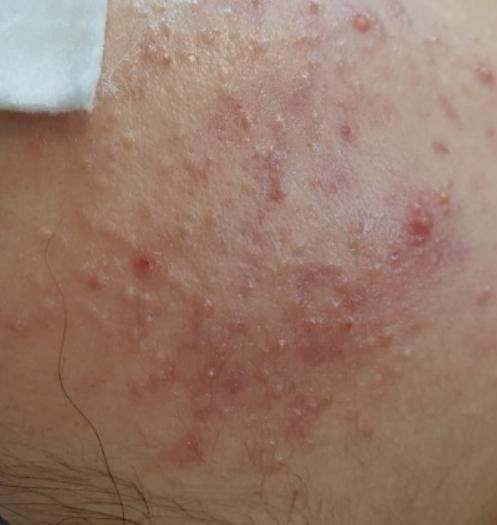papular: (411, 218, 452, 257), (350, 3, 378, 50)
whitehead: (139, 41, 196, 82), (124, 286, 160, 340), (265, 444, 311, 486), (265, 370, 305, 411), (85, 295, 121, 337), (116, 124, 160, 157), (263, 107, 299, 145), (34, 211, 68, 248), (175, 212, 209, 247), (268, 328, 299, 359), (393, 341, 424, 370), (195, 358, 219, 394), (247, 274, 267, 309), (324, 295, 348, 319)
